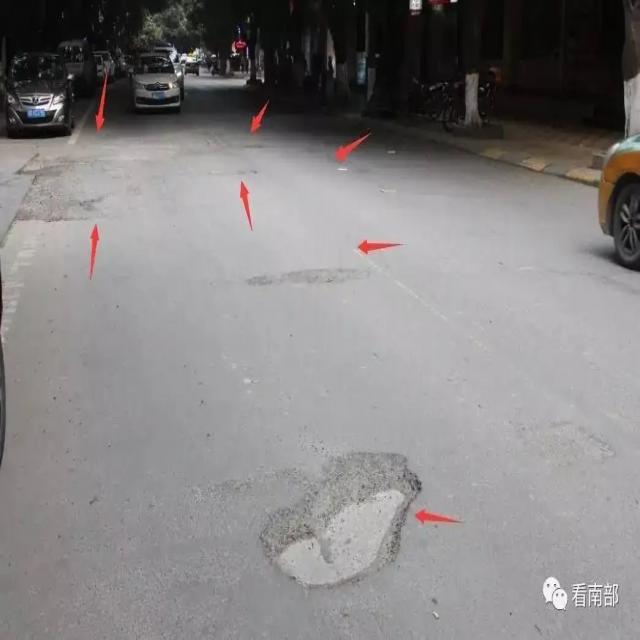Pothole: (262, 450, 420, 585), (255, 262, 362, 294), (91, 130, 131, 158), (64, 202, 118, 222), (212, 170, 258, 183), (237, 140, 265, 157), (328, 169, 352, 174)
